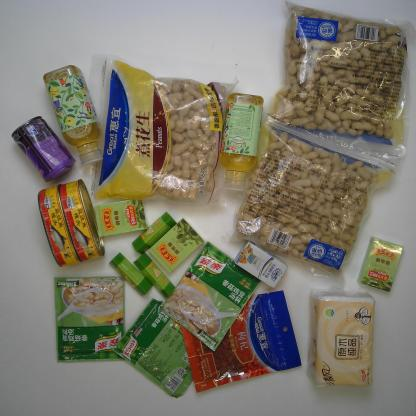Candy: (148, 218, 204, 272), (356, 238, 403, 292), (91, 197, 147, 238)
Canned Food: (11, 116, 75, 182), (57, 178, 106, 262), (37, 184, 85, 267)
Dried Food: (225, 112, 396, 291), (80, 54, 240, 207), (264, 2, 416, 162)
Dried Fruit: (178, 290, 302, 393)
Drink: (43, 64, 103, 165), (219, 93, 264, 192)
Milk: (235, 242, 287, 288)
Seasoner: (159, 242, 261, 352), (112, 298, 217, 400), (54, 275, 126, 362)
Stationery: (132, 213, 178, 255), (134, 252, 176, 298), (110, 252, 154, 295)
Tissue: (306, 292, 376, 386)
